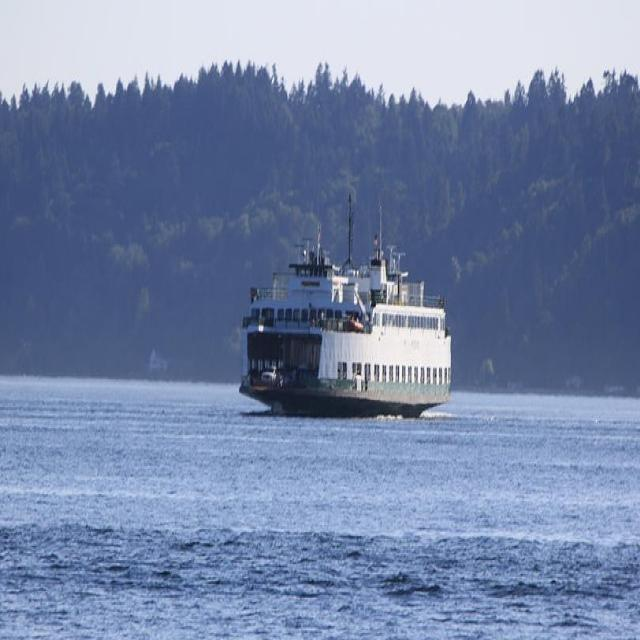passenger ship: (235, 201, 452, 422)
